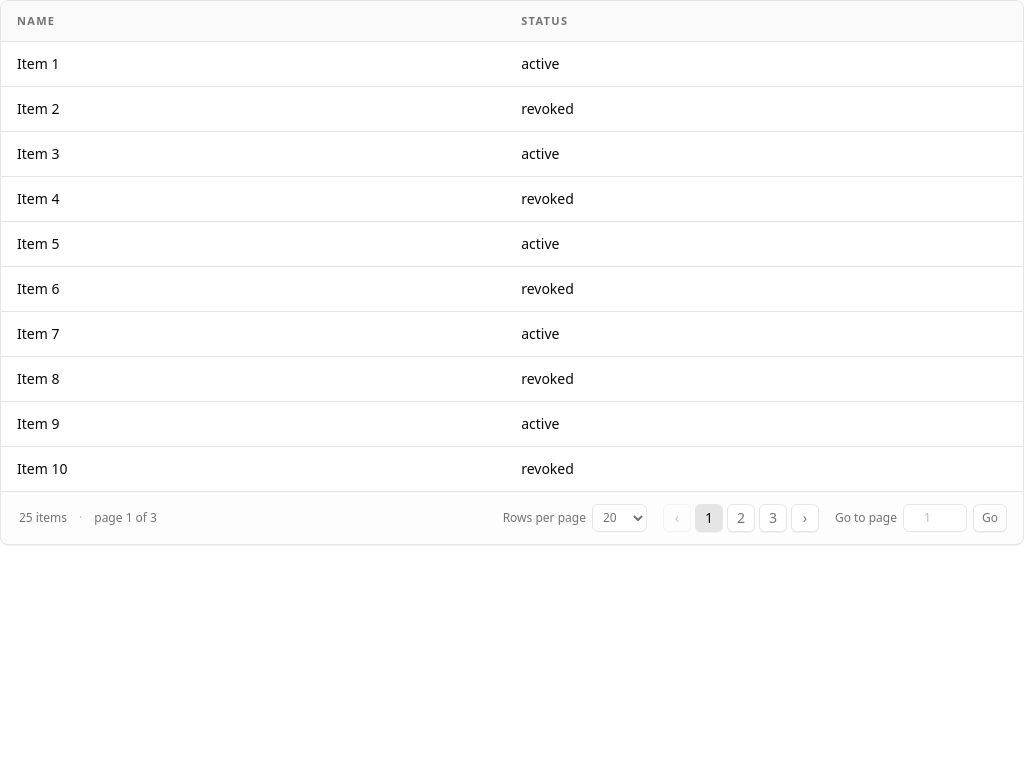
SchemaTable title / filters / pager › keeps the current rows rendered while paginating (no skeleton swap)
Click the button named "Next page" at (805, 518), box [791, 504, 819, 532]
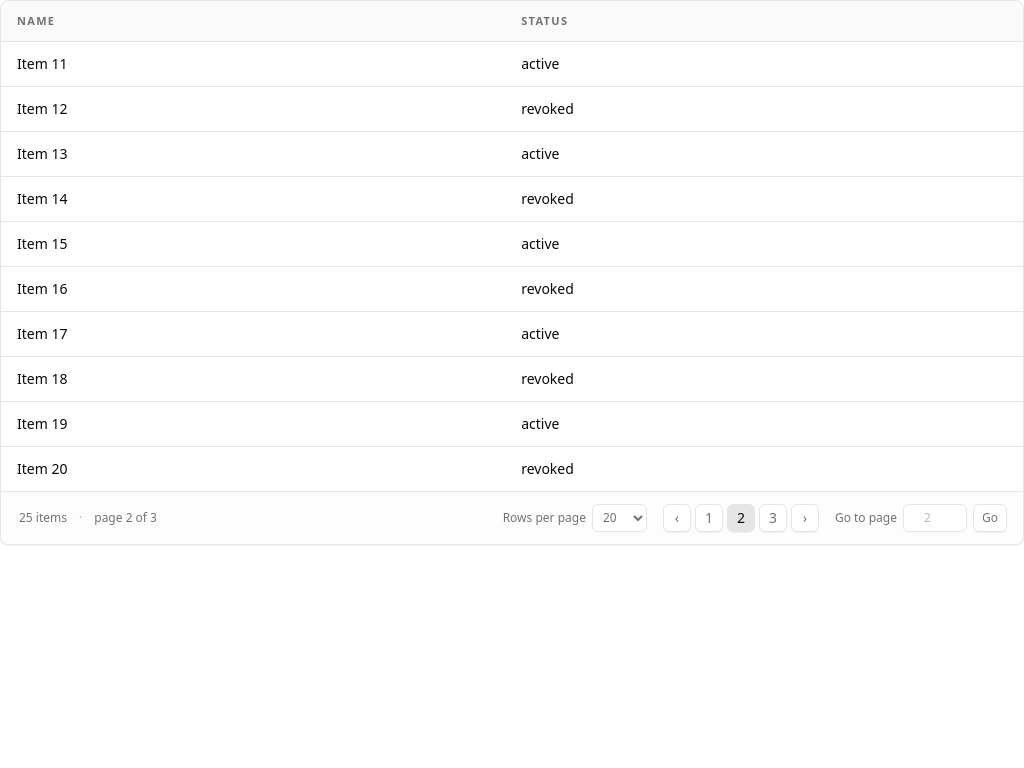
Expected: the text "Item 1" is shown, [17, 54, 68, 73]
Result: the text "Item 11" is shown at [17, 54, 68, 73]
